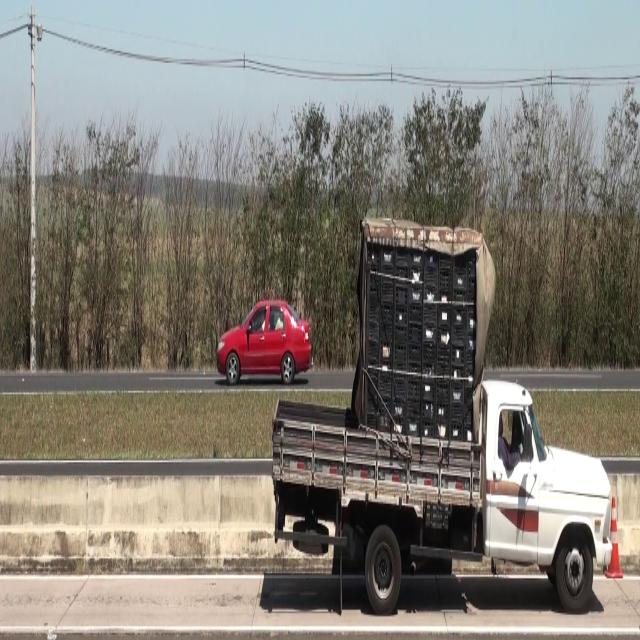-axle: (555, 528, 594, 611), (365, 525, 401, 610)
